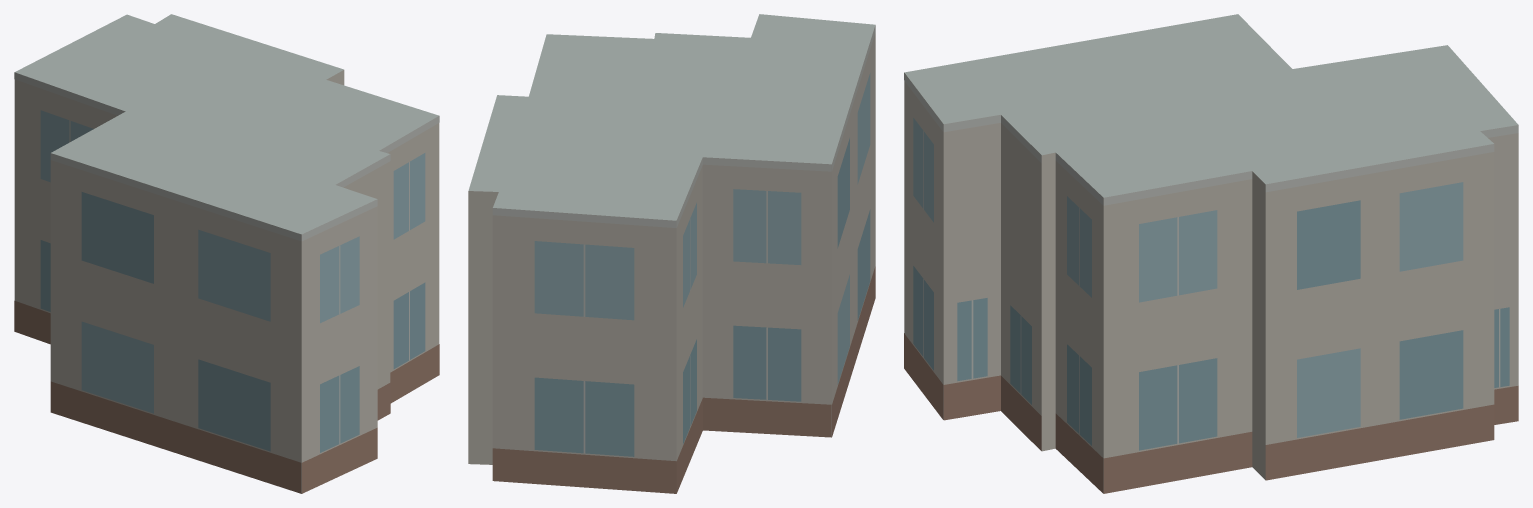
File: survey-upis-32852102.glb
3 views of the same model, side by side, from view 1: azimuth 30°, elevation 25°; view 2: azimuth 150°, elevation 25°; view 3: azimuth 270°, elevation 25° (orthographic). The views are drawn at different scales.
Parts seen in each view (by area): view 1: survey-upis-32852102.tmp; view 2: survey-upis-32852102.tmp; view 3: survey-upis-32852102.tmp.
Part boxes in pixels (x1,y1,x2,y2): survey-upis-32852102.tmp: (14, 14, 439, 493); survey-upis-32852102.tmp: (468, 14, 875, 493); survey-upis-32852102.tmp: (904, 14, 1518, 493).
Bounding box in the file's own units: 11.99 × 9 × 16.94.
